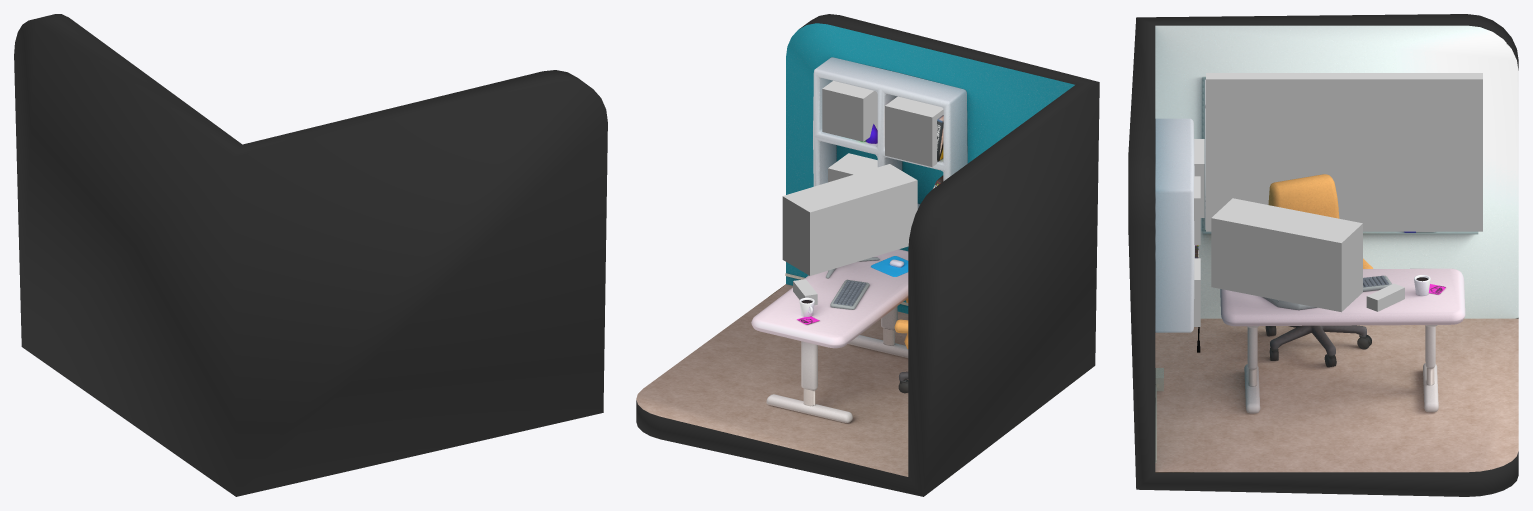
The model's file is scene-baked.glb.
3 renders of one model, left to right at view 1: azimuth 30°, elevation 25°; view 2: azimuth 150°, elevation 25°; view 3: azimuth 270°, elevation 25°, orthographic. The views are drawn at different scales.
Visible parts, largest first — view 1: Plane.018; view 2: Plane.018, Cube.084, Plane.023, Plane.020, Cube.082, Cube.060, Cube.081, Cube.083, Plane.021; view 3: Plane.018, Cube.086, Cube.084, Plane.023, Plane.020, Cube.058, Cube.060, Cube.056, Plane.025, Cube.085, Cube.082, Cube.081 (+1 smaller).
Part boxes in pixels (x1=…): Plane.018: x1=14, y1=14, x2=607, y2=496; Plane.018: x1=636, y1=14, x2=1099, y2=496; Cube.084: x1=782, y1=164, x2=917, y2=275; Plane.023: x1=813, y1=57, x2=967, y2=209; Plane.020: x1=751, y1=249, x2=908, y2=348; Cube.082: x1=885, y1=96, x2=943, y2=166; Cube.060: x1=766, y1=306, x2=908, y2=422; Cube.081: x1=822, y1=80, x2=877, y2=141; Cube.083: x1=828, y1=153, x2=877, y2=182; Plane.021: x1=833, y1=280, x2=866, y2=306; Plane.018: x1=1128, y1=14, x2=1518, y2=496; Cube.086: x1=1206, y1=73, x2=1482, y2=231; Cube.084: x1=1211, y1=198, x2=1362, y2=312; Plane.023: x1=1155, y1=118, x2=1194, y2=332; Plane.020: x1=1220, y1=268, x2=1465, y2=326; Cube.058: x1=1268, y1=174, x2=1339, y2=218; Cube.060: x1=1244, y1=325, x2=1438, y2=413; Cube.056: x1=1270, y1=325, x2=1366, y2=355; Plane.025: x1=1202, y1=77, x2=1478, y2=234; Cube.085: x1=1366, y1=283, x2=1404, y2=311; Cube.082: x1=1194, y1=139, x2=1204, y2=217; Cube.081: x1=1194, y1=176, x2=1200, y2=244.
Bounding box in the file's own units: 11.85 × 10.65 × 11.85.
10 materials, 6 textured.
